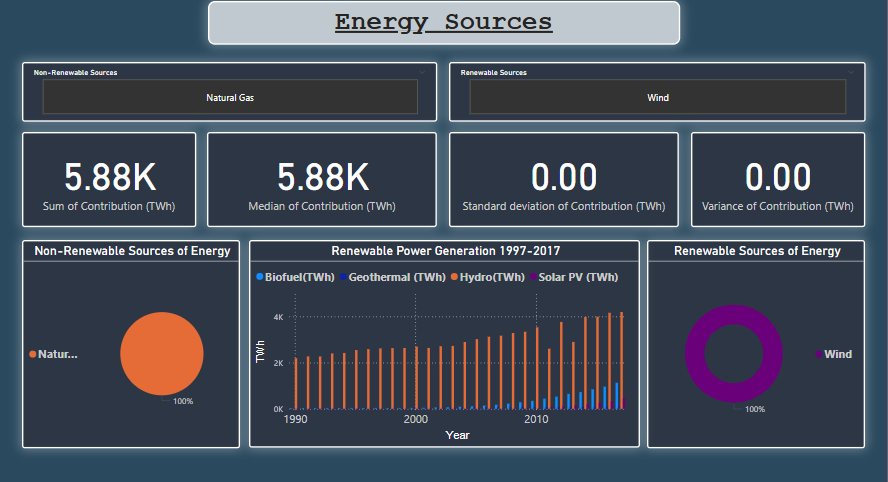

The dashboard page shown, as its layout file describes it:
{"tool":"powerbi","page":{"name":"Sources of Energy","canvas":[1280,720],"ordinal":1},"visuals":[{"type":"textbox","box":[301,15.8,679.7,63.4],"z":0},{"type":"pieChart","title":"Non-Renewable Sources of Energy","fields":{"Category":["nonRenewablesTotalPowerGeneration.Mode of Generation"],"Y":["Sum(nonRenewablesTotalPowerGeneration.Contribution (TWh))"]},"box":[33.1,360,313.9,299.5],"z":1000},{"type":"slicer","fields":{"Values":["nonRenewablesTotalPowerGeneration.Mode of Generation"]},"box":[33.1,103.7,597.6,86.4],"z":2000},{"type":"donutChart","title":"Renewable Sources of Energy","fields":{"Category":["renewablesTotalPowerGeneration.Mode of Generation"],"Y":["Sum(renewablesTotalPowerGeneration.Contribution (TWh))"]},"box":[933.1,360,313.9,299.5],"z":3000},{"type":"slicer","fields":{"Values":["renewablesTotalPowerGeneration.Mode of Generation"]},"box":[648,103.7,600.5,86.4],"z":4000},{"type":"clusteredColumnChart","title":"Renewable Power Generation 1997-2017","fields":{"Category":["renewablePowerGeneration97-17.Year"],"Y":["Sum(renewablePowerGeneration97-17.Biofuel(TWh))","Sum(renewablePowerGeneration97-17.Geothermal (TWh))","Sum(renewablePowerGeneration97-17.Hydro(TWh))","Sum(renewablePowerGeneration97-17.Solar PV (TWh))"]},"box":[359.5,359.5,562.7,299],"z":5000},{"type":"card","fields":{"Values":["Sum(renewablesTotalPowerGeneration.Contribution (TWh))"]},"box":[33.1,204.5,250.6,136.8],"z":6000},{"type":"card","fields":{"Values":["Median(renewablesTotalPowerGeneration.Contribution (TWh))"]},"box":[299.5,204.5,331.2,136.8],"z":7000},{"type":"card","fields":{"Values":["Sum(renewablesTotalPowerGeneration.Contribution (TWh))"]},"box":[648,204.5,331.2,136.8],"z":8000},{"type":"card","fields":{"Values":["Sum(renewablesTotalPowerGeneration.Contribution (TWh))"]},"box":[996.5,204.5,250.6,136.8],"z":9000}]}

Visuals, with their boxes in screenshot pixels (x1, y1, x2, y2):
textbox: [206,2,670,45]
"Non-Renewable Sources of Energy" pieChart: [23,237,237,441]
slicer - nonRenewablesTotalPowerGeneration.Mode of Generation: [23,62,431,121]
"Renewable Sources of Energy" donutChart: [637,237,852,441]
slicer - renewablesTotalPowerGeneration.Mode of Generation: [443,62,853,121]
"Renewable Power Generation 1997-2017" clusteredColumnChart: [246,236,630,441]
card - Sum(renewablesTotalPowerGeneration.Contribution (TWh)): [23,130,194,224]
card - Median(renewablesTotalPowerGeneration.Contribution (TWh)): [205,130,431,224]
card - Sum(renewablesTotalPowerGeneration.Contribution (TWh)): [443,130,669,224]
card - Sum(renewablesTotalPowerGeneration.Contribution (TWh)): [681,130,852,224]
